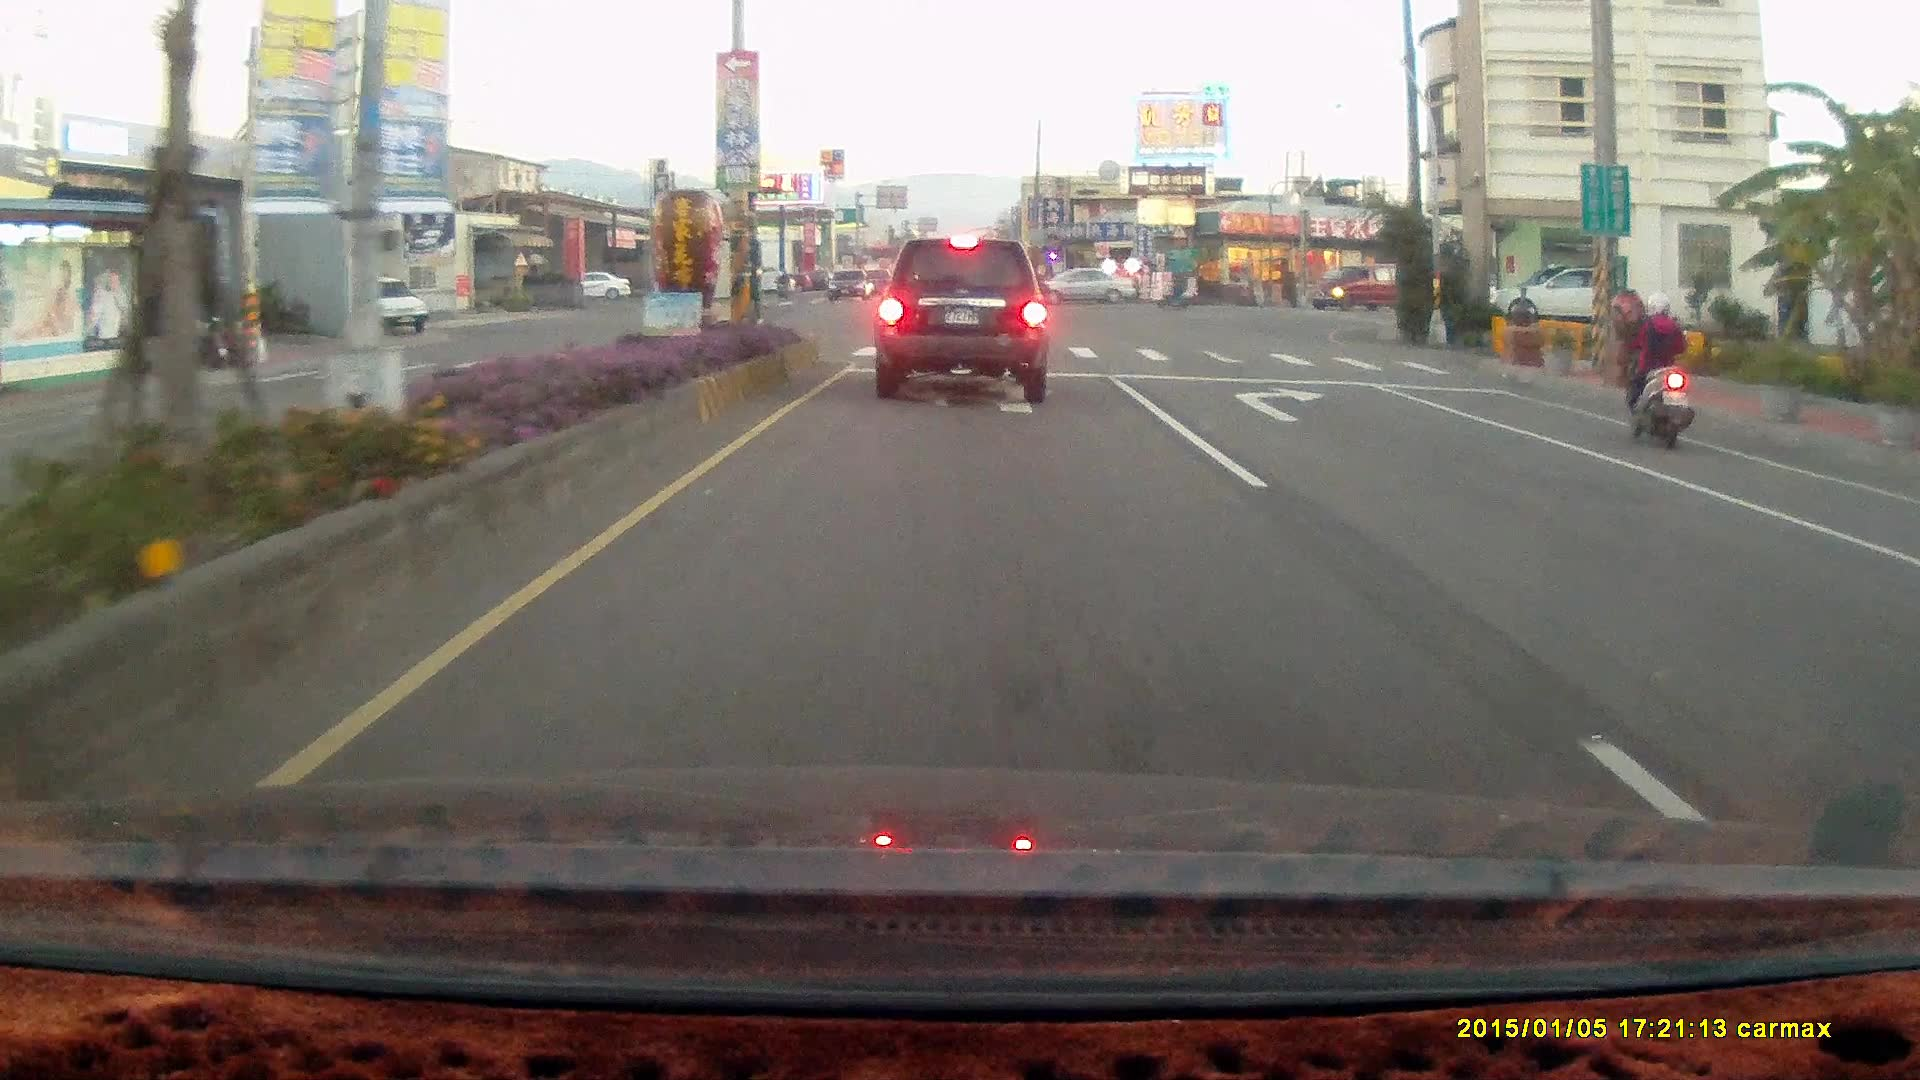rider: (1619, 290, 1696, 453), (1159, 270, 1194, 310)
vehicle: (873, 236, 1052, 404), (1489, 263, 1638, 329), (1896, 493, 1920, 836), (1493, 265, 1609, 329), (1883, 528, 1920, 690), (349, 275, 431, 337), (1308, 264, 1412, 311), (1027, 268, 1138, 310), (1027, 263, 1136, 303)
